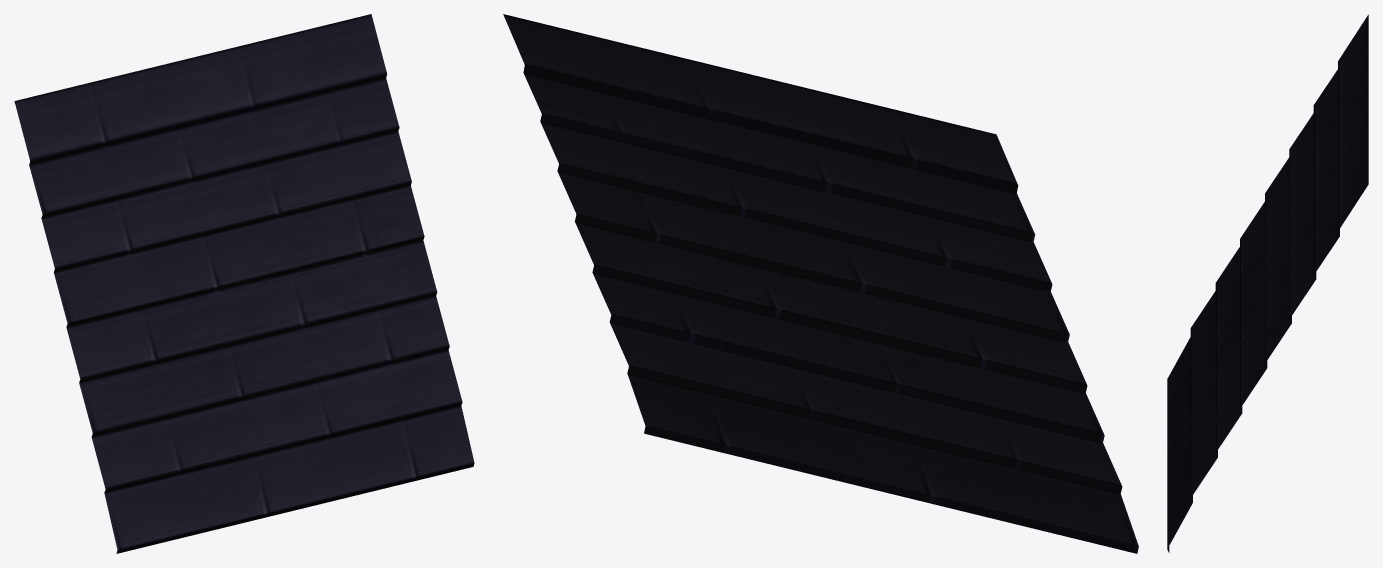
Rendered from Roof_TWO_BY_ONE.fbx.
3 views of the same model, side by side, from view 1: azimuth 30°, elevation 25°; view 2: azimuth 150°, elevation 25°; view 3: azimuth 270°, elevation 25° (orthographic). The views are drawn at different scales.
Visible parts, largest first — view 1: Roof_TWO_BY_ONE; view 2: Roof_TWO_BY_ONE; view 3: Roof_TWO_BY_ONE.
Part boxes in pixels (x1=…): Roof_TWO_BY_ONE: x1=14, y1=14, x2=474, y2=553; Roof_TWO_BY_ONE: x1=503, y1=14, x2=1138, y2=553; Roof_TWO_BY_ONE: x1=1167, y1=14, x2=1368, y2=552.
Bounding box in the file's own units: 2 × 2.02 × 1.
